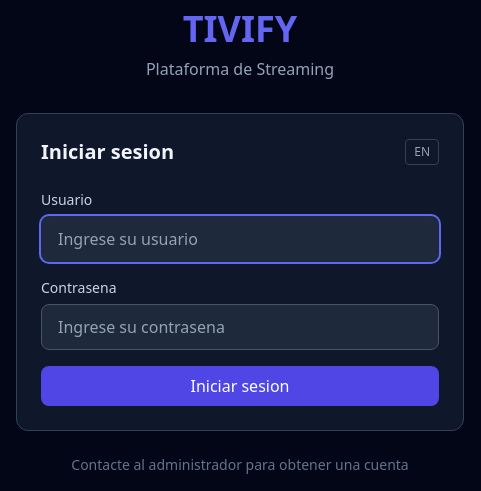
Test case: LoginPage › disables button while submitting
Type "admin" into the field labelled "Usuario" at (240, 239), box x1=41 y1=216 x2=439 y2=262
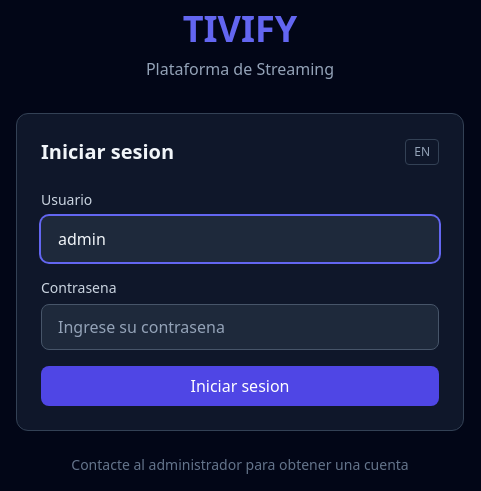
Type "pass123" into the password field labelled "Contrasena" at (240, 327), box x1=41 y1=304 x2=439 y2=350
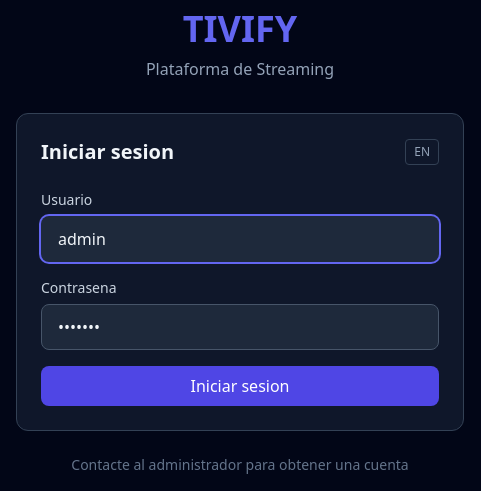
Click the button "Iniciar sesion" at (240, 386), box x1=41 y1=366 x2=439 y2=406
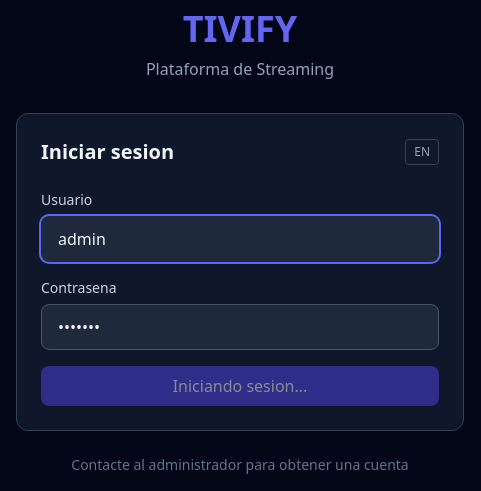
Check: the button "Iniciando sesion..." is shown, box x1=41 y1=366 x2=439 y2=406
